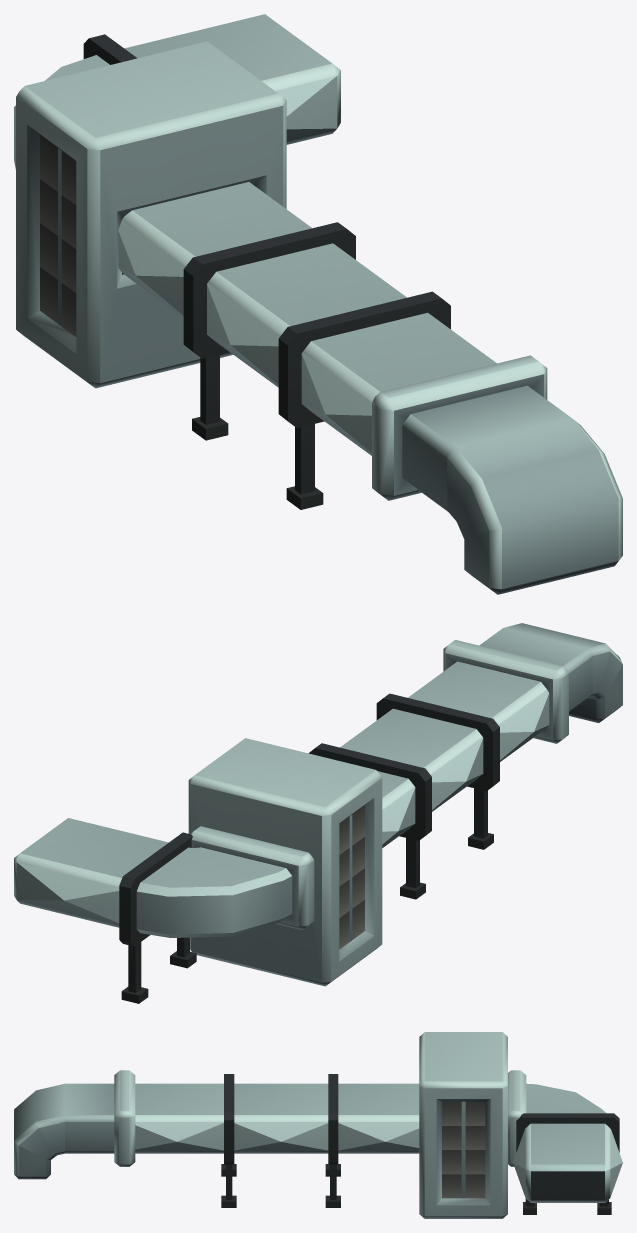
Rendered from air_duct_example.fbx.
3 renders of one model, top to bottom at view 1: azimuth 30°, elevation 25°; view 2: azimuth 150°, elevation 25°; view 3: azimuth 270°, elevation 25°, orthographic. The views are drawn at different scales.
Visible parts, largest first — view 1: air_duct_example; view 2: air_duct_example; view 3: air_duct_example.
Part boxes in pixels (box(x1,y1,x2,y2)): air_duct_example: box(14, 14, 622, 594); air_duct_example: box(14, 623, 622, 1003); air_duct_example: box(14, 1032, 622, 1218).
Size of the model in its own units: 213 by 146 by 584.
